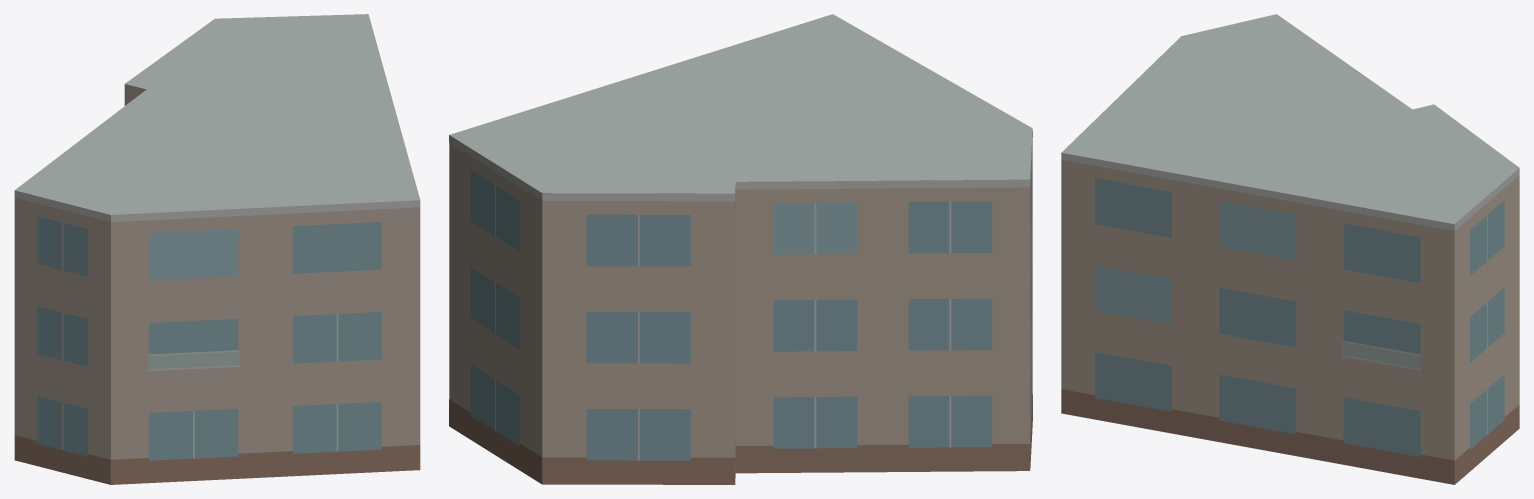
Rendered from survey-upis-32846172.glb.
The picture shows the model from 3 angles, left to right: view 1: azimuth 30°, elevation 25°; view 2: azimuth 150°, elevation 25°; view 3: azimuth 270°, elevation 25°; orthographic projection. The views are drawn at different scales.
Parts seen in each view (by area): view 1: survey-upis-32846172.tmp; view 2: survey-upis-32846172.tmp; view 3: survey-upis-32846172.tmp.
Part boxes in pixels (x1,y1,x2,y2): survey-upis-32846172.tmp: [14, 14, 420, 484]; survey-upis-32846172.tmp: [449, 14, 1032, 484]; survey-upis-32846172.tmp: [1061, 14, 1519, 484].
Size of the model in its own units: 15.84 by 9.15 by 14.59.
